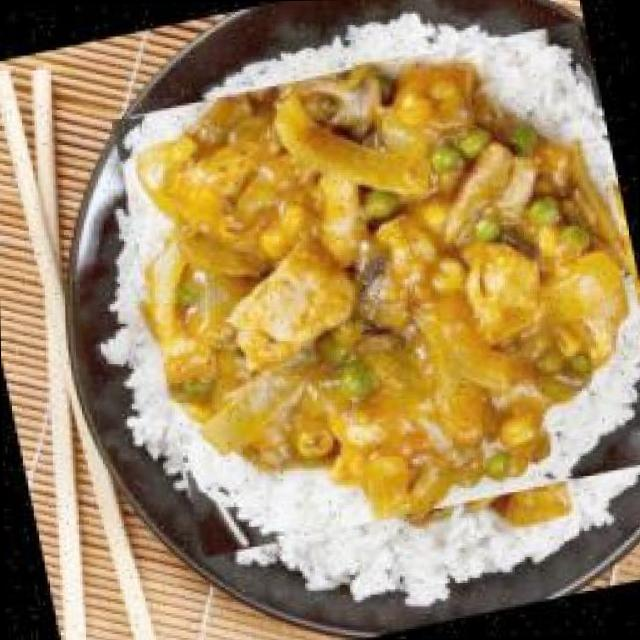curry: (107, 19, 640, 558)
